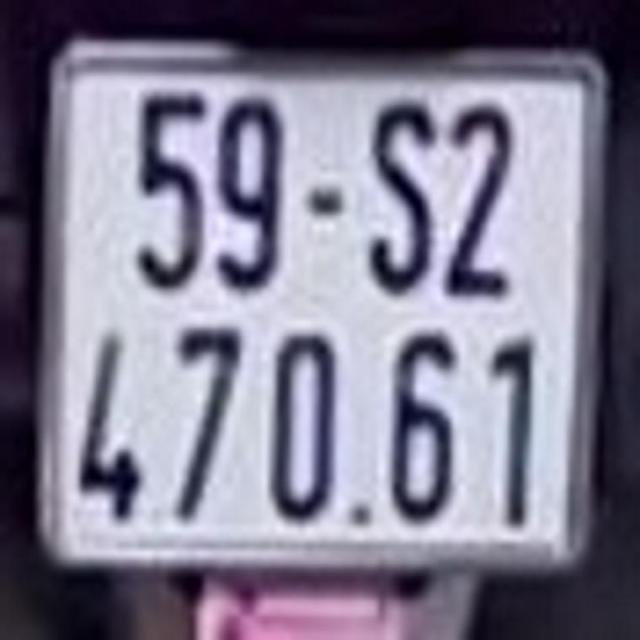0: (264, 314, 340, 524)
1: (481, 319, 552, 531)
2: (441, 76, 516, 300)
4: (72, 315, 149, 527)
5: (124, 77, 208, 296)
6: (384, 311, 460, 528)
7: (173, 304, 246, 529)
9: (214, 60, 284, 303)
S: (360, 77, 434, 306)
